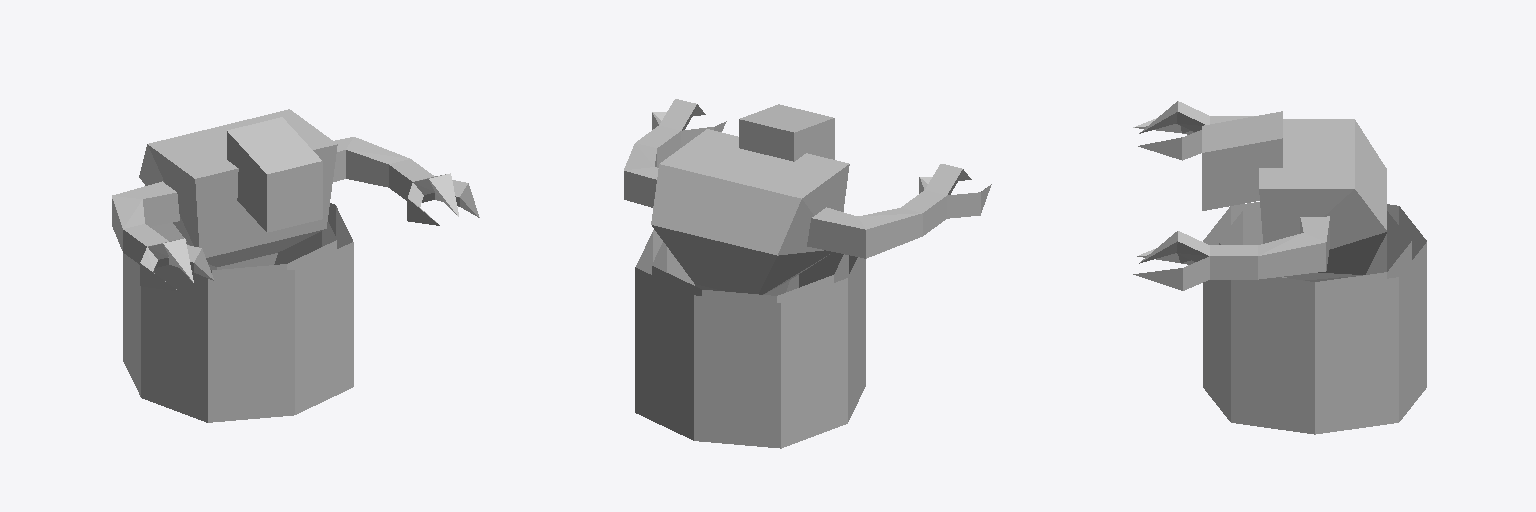
File: cinder.obj
3 views of the same model, side by side, from view 1: azimuth 30°, elevation 25°; view 2: azimuth 150°, elevation 25°; view 3: azimuth 270°, elevation 25° (orthographic).
Visible parts, largest first — view 1: OuterEffect, Body, Head, RightArm, LeftArm, InnerEffect; view 2: OuterEffect, Body, RightArm, Head, LeftArm, InnerEffect; view 3: OuterEffect, Body, LeftArm, Head, InnerEffect, RightArm.
Part boxes in pixels (x1,y1,x2,y2): OuterEffect: (123,203,353,422); Body: (139,109,337,269); Head: (227,117,322,232); RightArm: (112,181,213,291); LeftArm: (333,137,479,225); InnerEffect: (150,222,336,276); OuterEffect: (635,230,865,448); Body: (651,129,849,295); RightArm: (807,164,991,258); Head: (739,104,834,161); LeftArm: (624,99,726,207); InnerEffect: (652,242,848,302); OuterEffect: (1203,202,1426,434); Body: (1259,119,1386,281); LeftArm: (1133,216,1329,290); Head: (1202,111,1282,210); InnerEffect: (1219,208,1411,288); RightArm: (1133,101,1253,160).
Bounding box in the file's own units: 2.36 × 1.8 × 1.83.